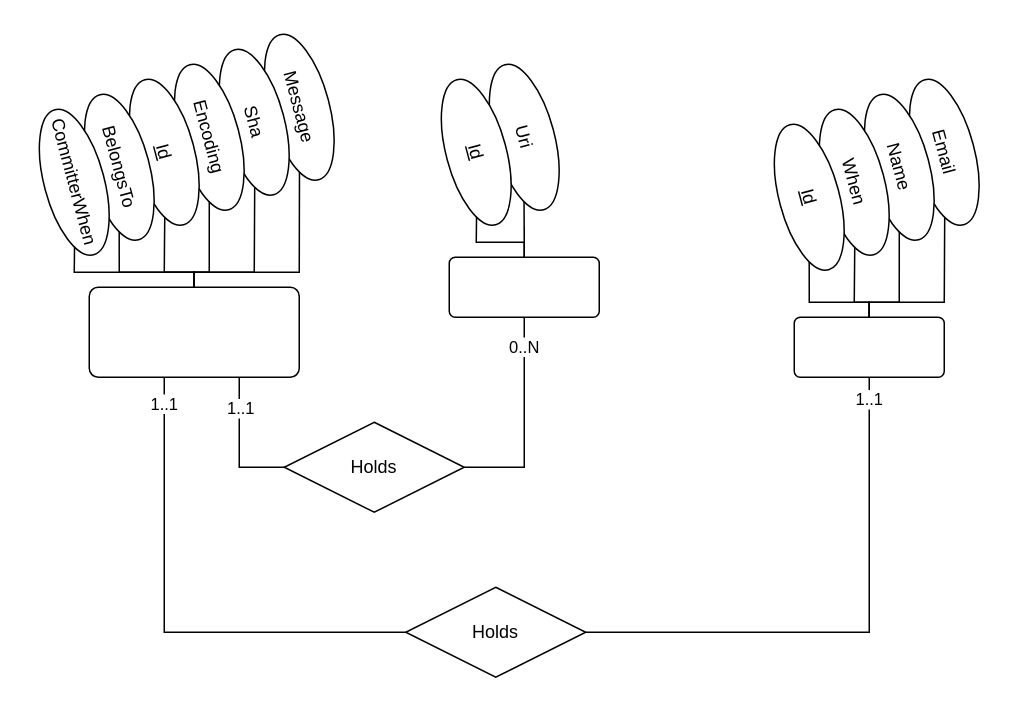
This 1020x704 diagram has some shape labels left out. The box of each missing label's shape, as (x1, y1, x2, y2) in pixels:
GitCommit: (88, 286, 299, 377)
GitRepo: (448, 256, 599, 317)
GitSignature: (793, 316, 944, 377)
